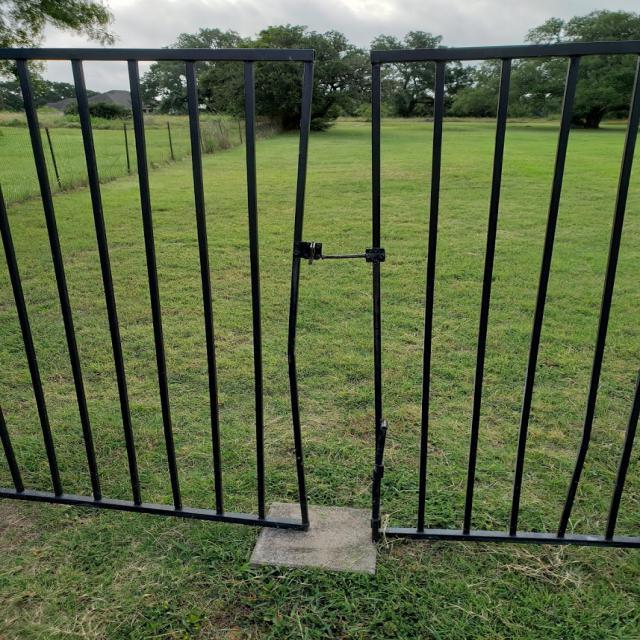fence line: (228, 83, 448, 545), (235, 70, 433, 545)
